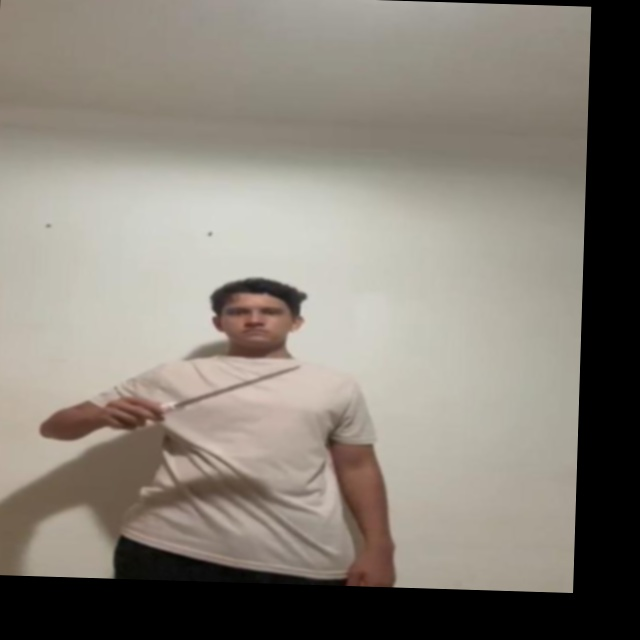Sharp-Object: (180, 359, 300, 408)
